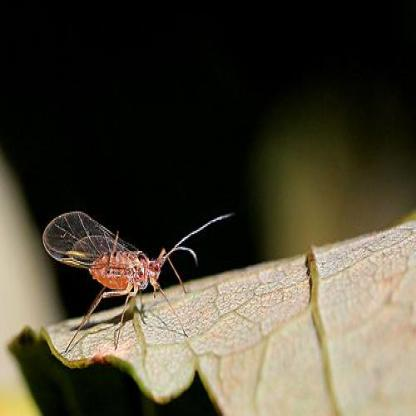aphid: (41, 202, 238, 340)
